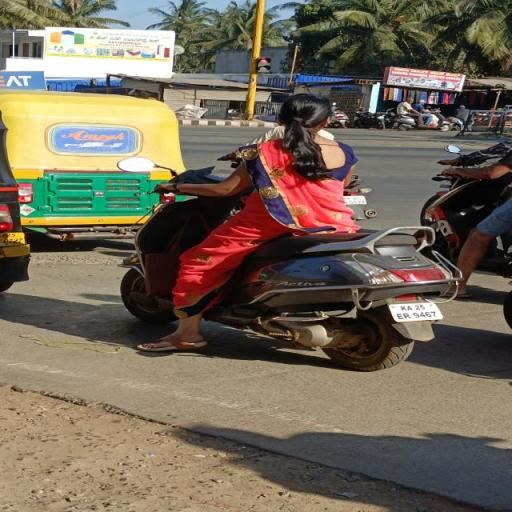bike: (112, 87, 470, 372)
numberplate: (381, 294, 443, 324)
withouthelmet: (278, 94, 332, 132)
